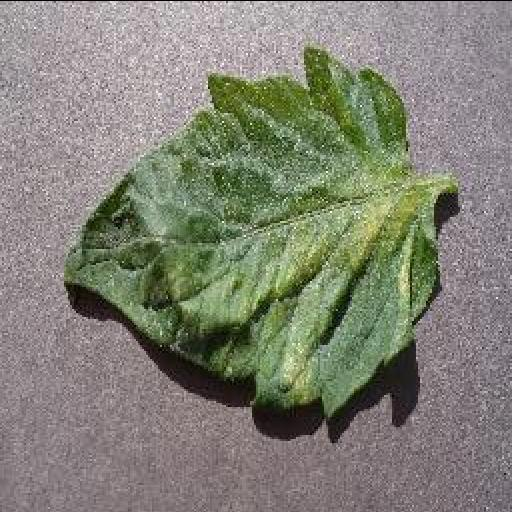disease_tomato: (58, 48, 438, 414)
